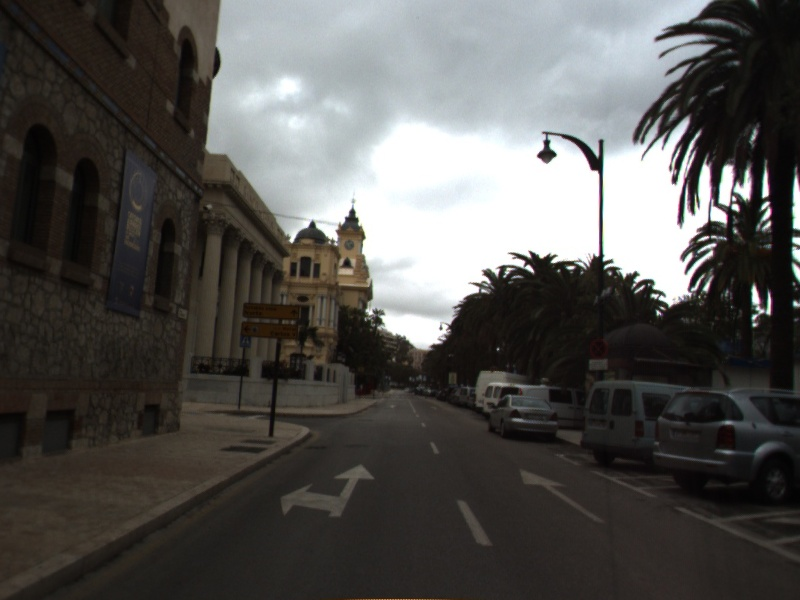STRAIGHT: (518, 466, 609, 526)
STRAIGHT_LEFT: (278, 461, 378, 519)
